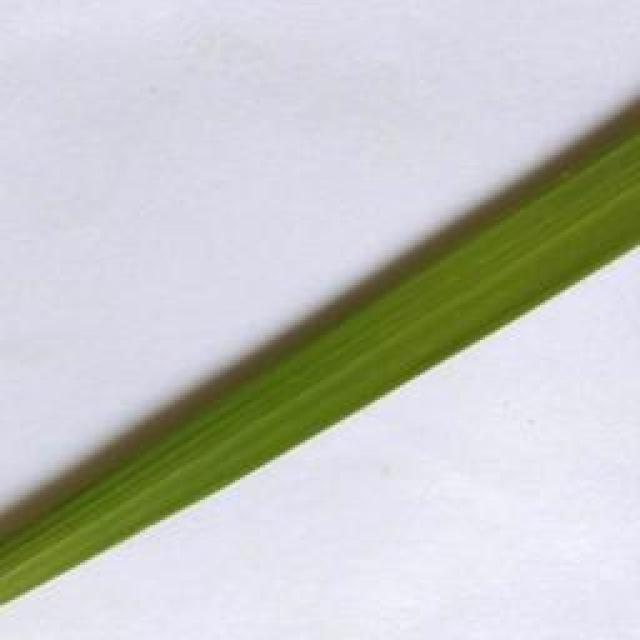Healthy-Plant: (0, 128, 640, 607)
